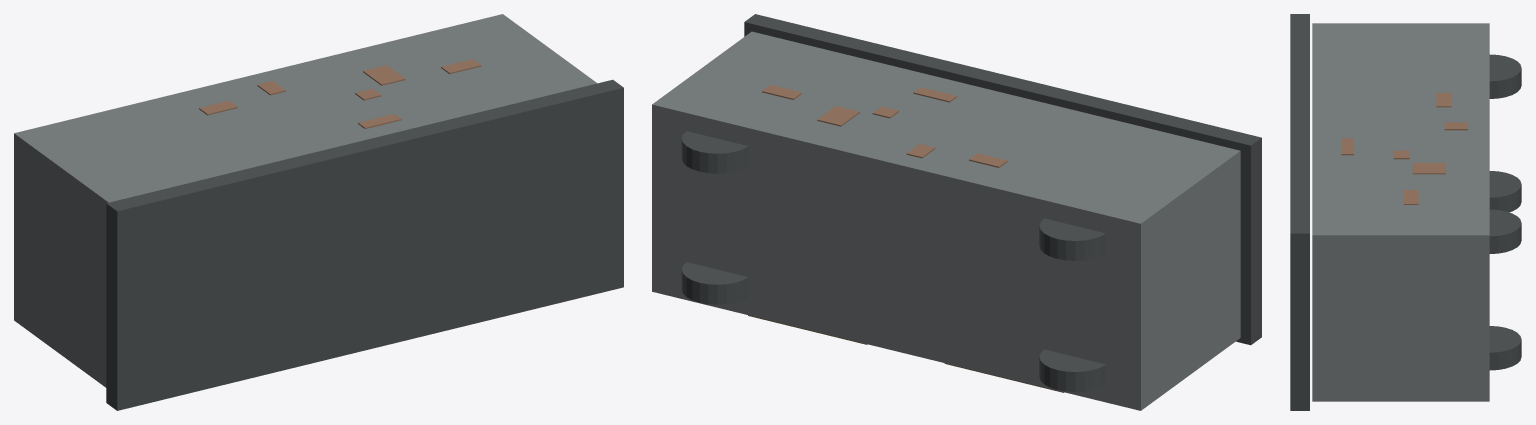
File: rail_car_detailed.glb
3 renders of one model, left to right at view 1: azimuth 30°, elevation 25°; view 2: azimuth 150°, elevation 25°; view 3: azimuth 270°, elevation 25°, orthographic. The views are drawn at different scales.
Visible parts, largest first — view 1: Roof, Body; view 2: Body, Roof, W31.05, W3-1.05, W-3-1.05, W-31.05; view 3: Body, Roof, W31.05, W-31.05, W3-1.05, W-3-1.05, Rust11, Rust0, Rust8, Rust1.
Boxes of the visible parts, x1,y1,x2,y2 form: Roof: (106,79,623,410); Body: (14,14,597,387); Body: (652,31,1240,410); Roof: (744,14,1261,345); W31.05: (681,131,748,173); W3-1.05: (681,262,748,304); W-3-1.05: (1039,349,1106,391); W-31.05: (1039,218,1106,260); Body: (1312,23,1489,401); Roof: (1290,14,1309,410); W31.05: (1489,209,1521,253); W-31.05: (1489,54,1521,98); W3-1.05: (1489,326,1521,370); W-3-1.05: (1489,171,1521,212); Rust11: (1412,163,1445,174); Rust0: (1403,190,1418,204); Rust8: (1436,93,1451,107); Rust1: (1341,138,1353,155).
Size of the model in its own units: 8.5 by 3.26 by 3.78.
